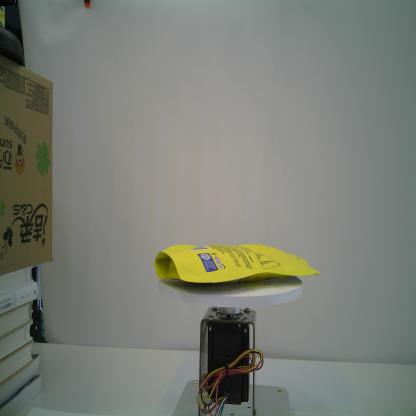Dried Fruit: (153, 244, 322, 284)
